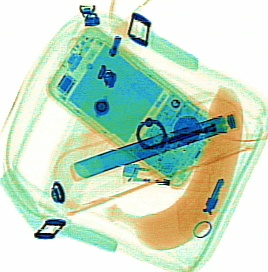lighter: (121, 161, 190, 188)
